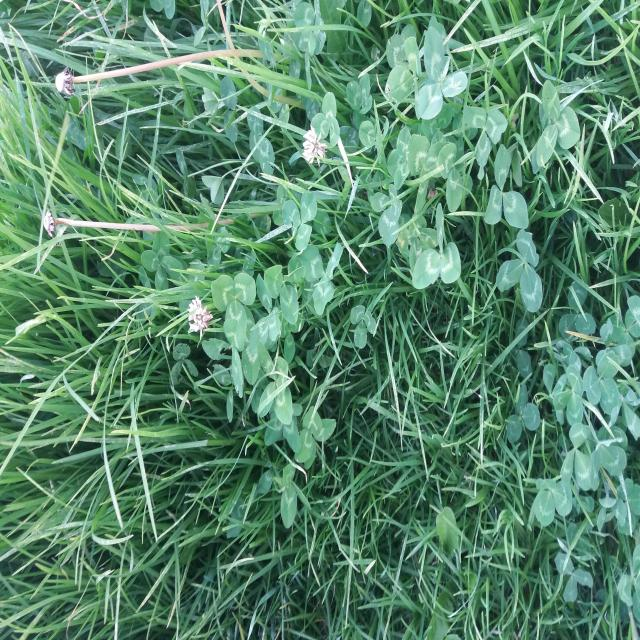Four Leaf Clover: (258, 339, 293, 425), (141, 230, 184, 297), (296, 405, 336, 470)
